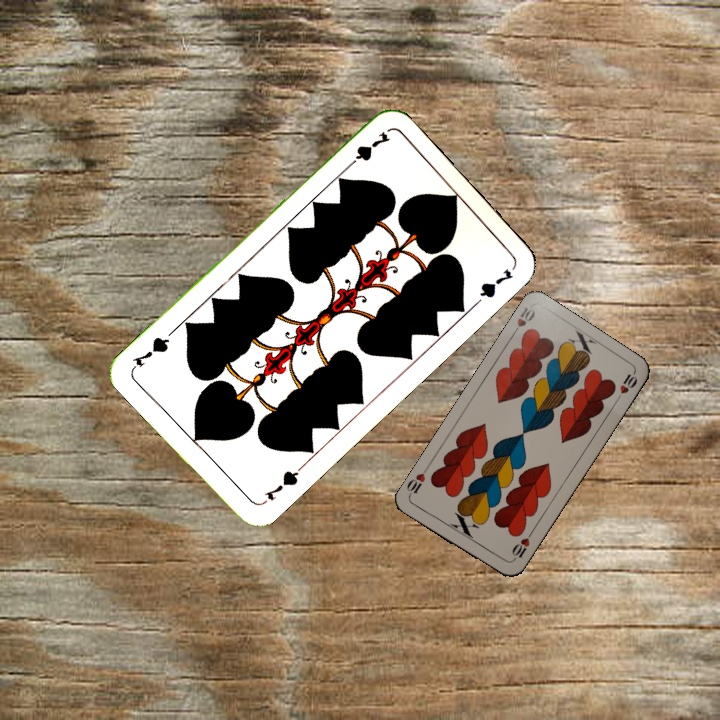G7: (341, 127, 393, 172), (260, 462, 305, 504)
H10: (507, 303, 538, 339), (507, 528, 535, 564)
